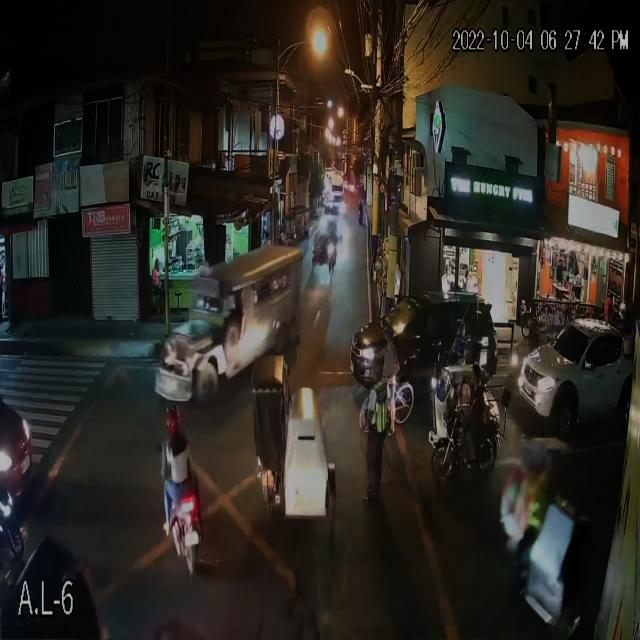Full-Faced: (165, 409, 184, 438)
